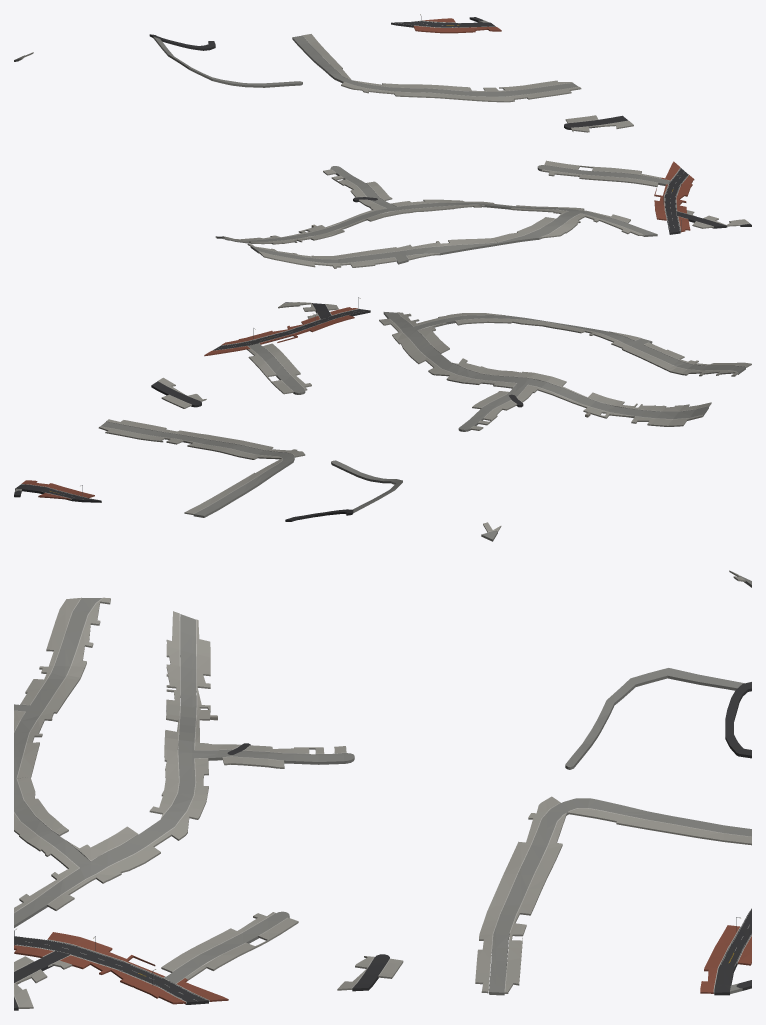
3 views of the same model, one above another, from view 1: azimuth 30°, elevation 25°; view 2: azimuth 150°, elevation 25°; view 3: azimuth 270°, elevation 25° (orthographic). The views are drawn at different scales.
Bounding box in the file's own units: 293 × 55.89 × 292.
